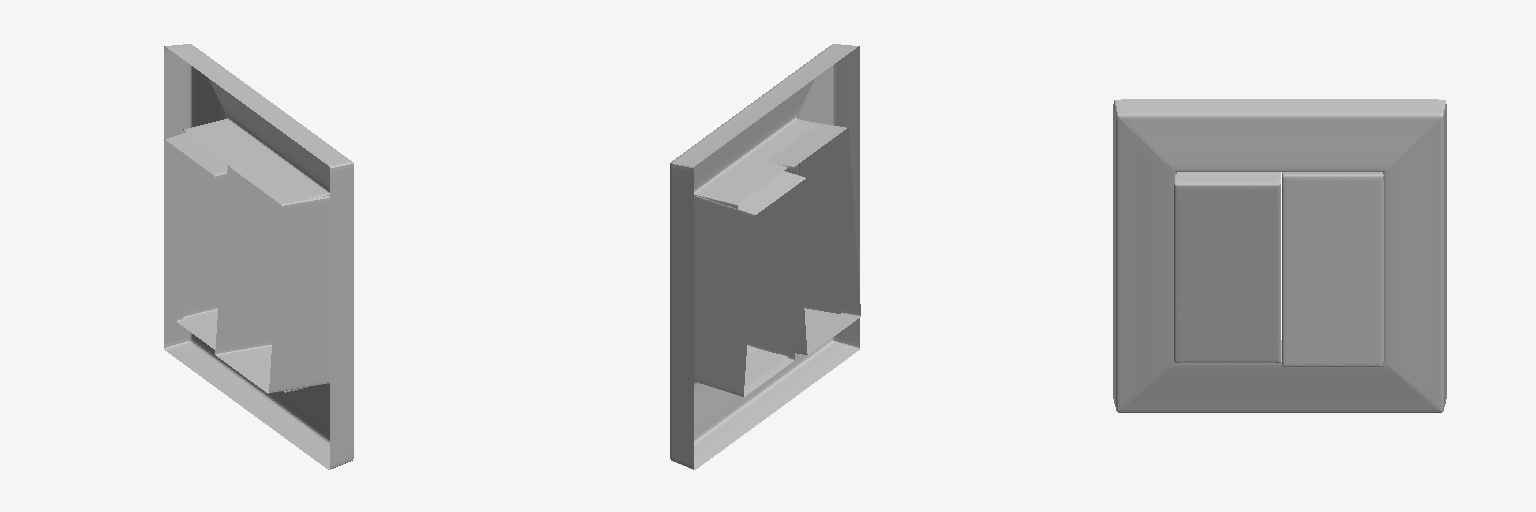
Rendered from switch2.obj.
The picture shows the model from 3 angles: view 1: azimuth 30°, elevation 25°; view 2: azimuth 150°, elevation 25°; view 3: azimuth 270°, elevation 25°; orthographic projection.
Visible parts, largest first — view 1: switch_separated_Cube.007; view 2: switch_separated_Cube.007; view 3: switch_separated_Cube.007.
Boxes of the visible parts, x1=… form: switch_separated_Cube.007: x1=164, y1=44, x2=353, y2=469; switch_separated_Cube.007: x1=670, y1=44, x2=860, y2=469; switch_separated_Cube.007: x1=1113, y1=99, x2=1446, y2=412.
Bounding box in the file's own units: 0.1153 × 0.4161 × 0.413.